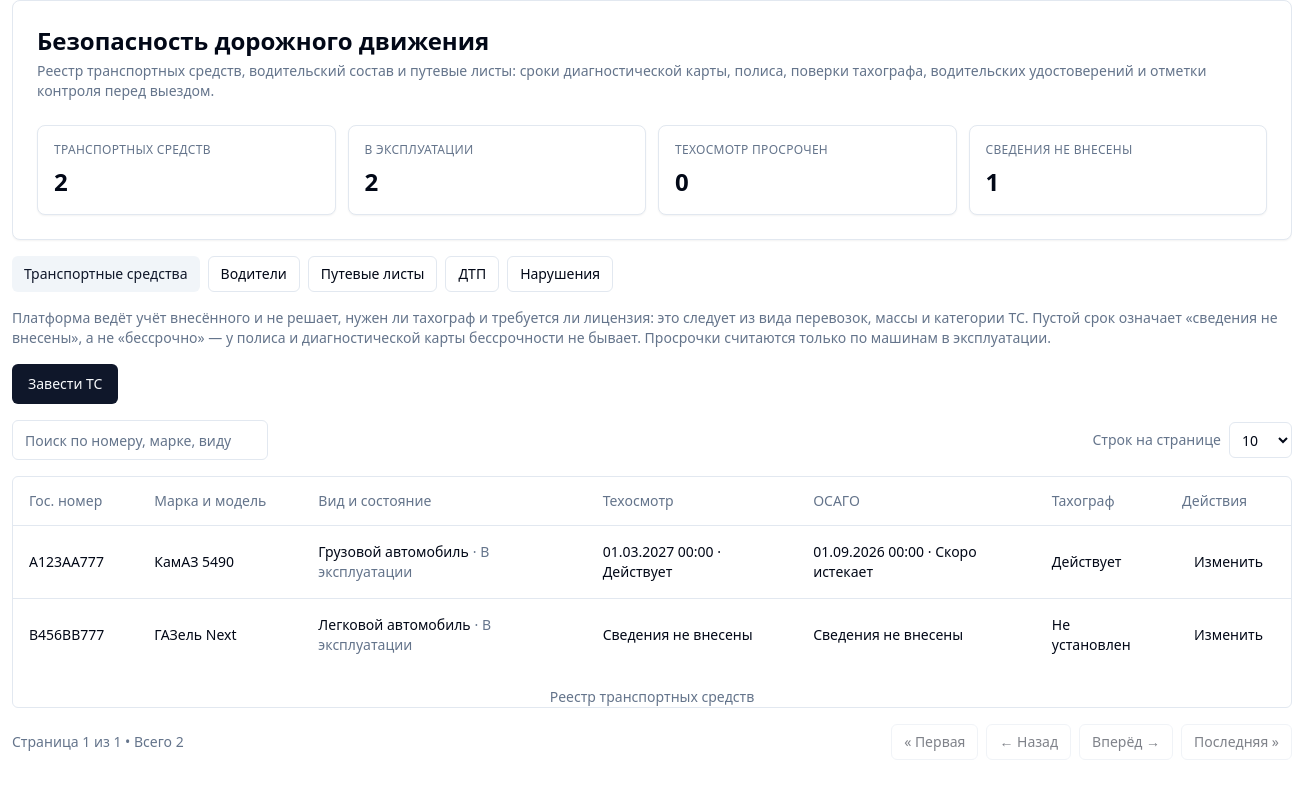
it: RoadSafetyPage › секция водителей показывает состав, стаж и границу
Expected: the text "А123АА777" is shown, 13,525 -> 138,598
Click the button "Водители" at x=254, y=274, box 208,256 -> 300,292
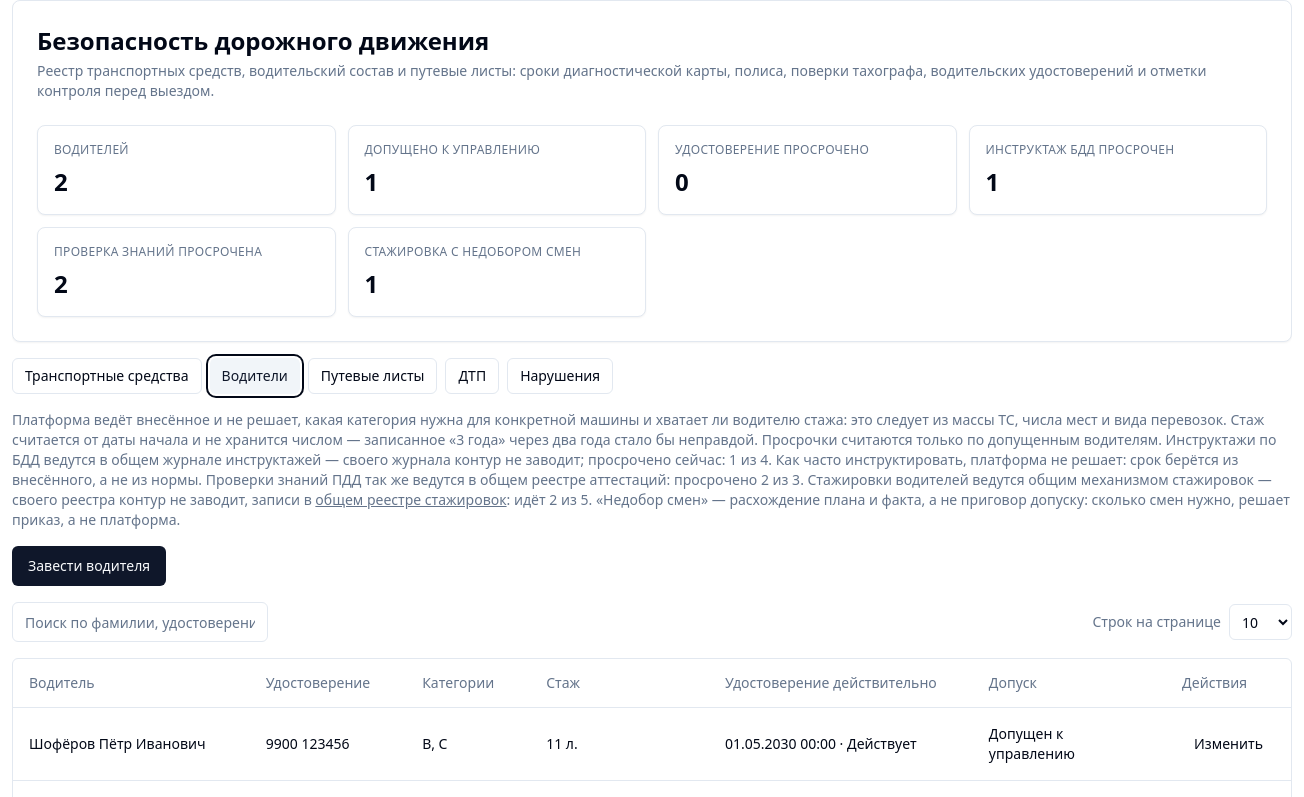
Expected: the text "Шофёров Пётр Иванович" is shown, 13,707 -> 250,780
Expected: the text "11 л." is shown, 530,707 -> 709,780
Expected: the text "Инструктаж БДД просрочен" is shown, 986,141 -> 1174,158
